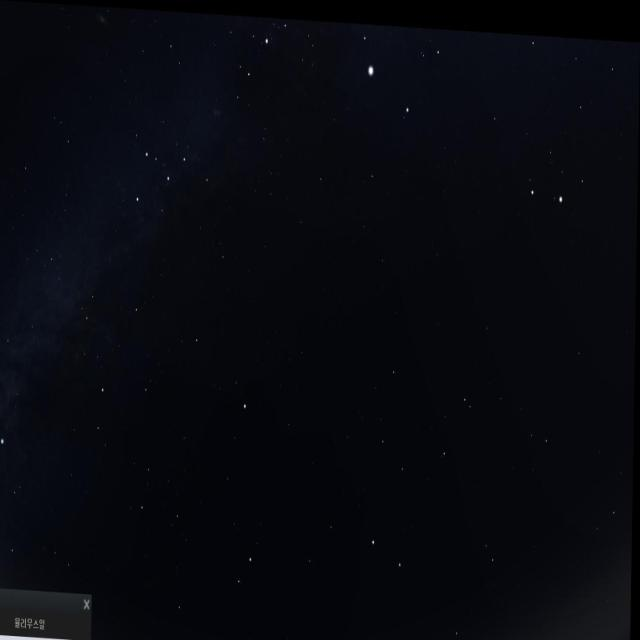cassiopeia: (123, 117, 228, 222)
